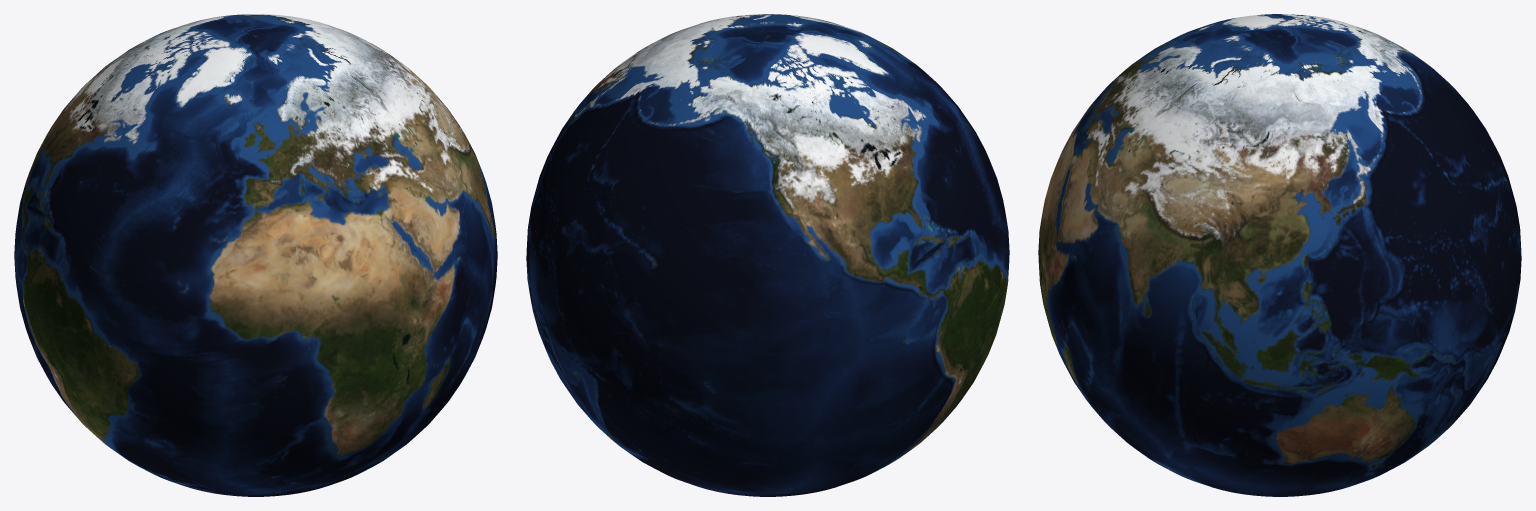
3 renders of one model, left to right at view 1: azimuth 30°, elevation 25°; view 2: azimuth 150°, elevation 25°; view 3: azimuth 270°, elevation 25°, orthographic.
Parts seen in each view (by area): view 1: frame_0; view 2: frame_0; view 3: frame_0.
Boxes of the visible parts, x1,y1,x2,y2 form: frame_0: (14, 14, 497, 496); frame_0: (526, 14, 1009, 496); frame_0: (1038, 14, 1521, 496).
Size of the model in its own units: 2.52 by 2.52 by 2.52.
12 materials, 12 textured.
